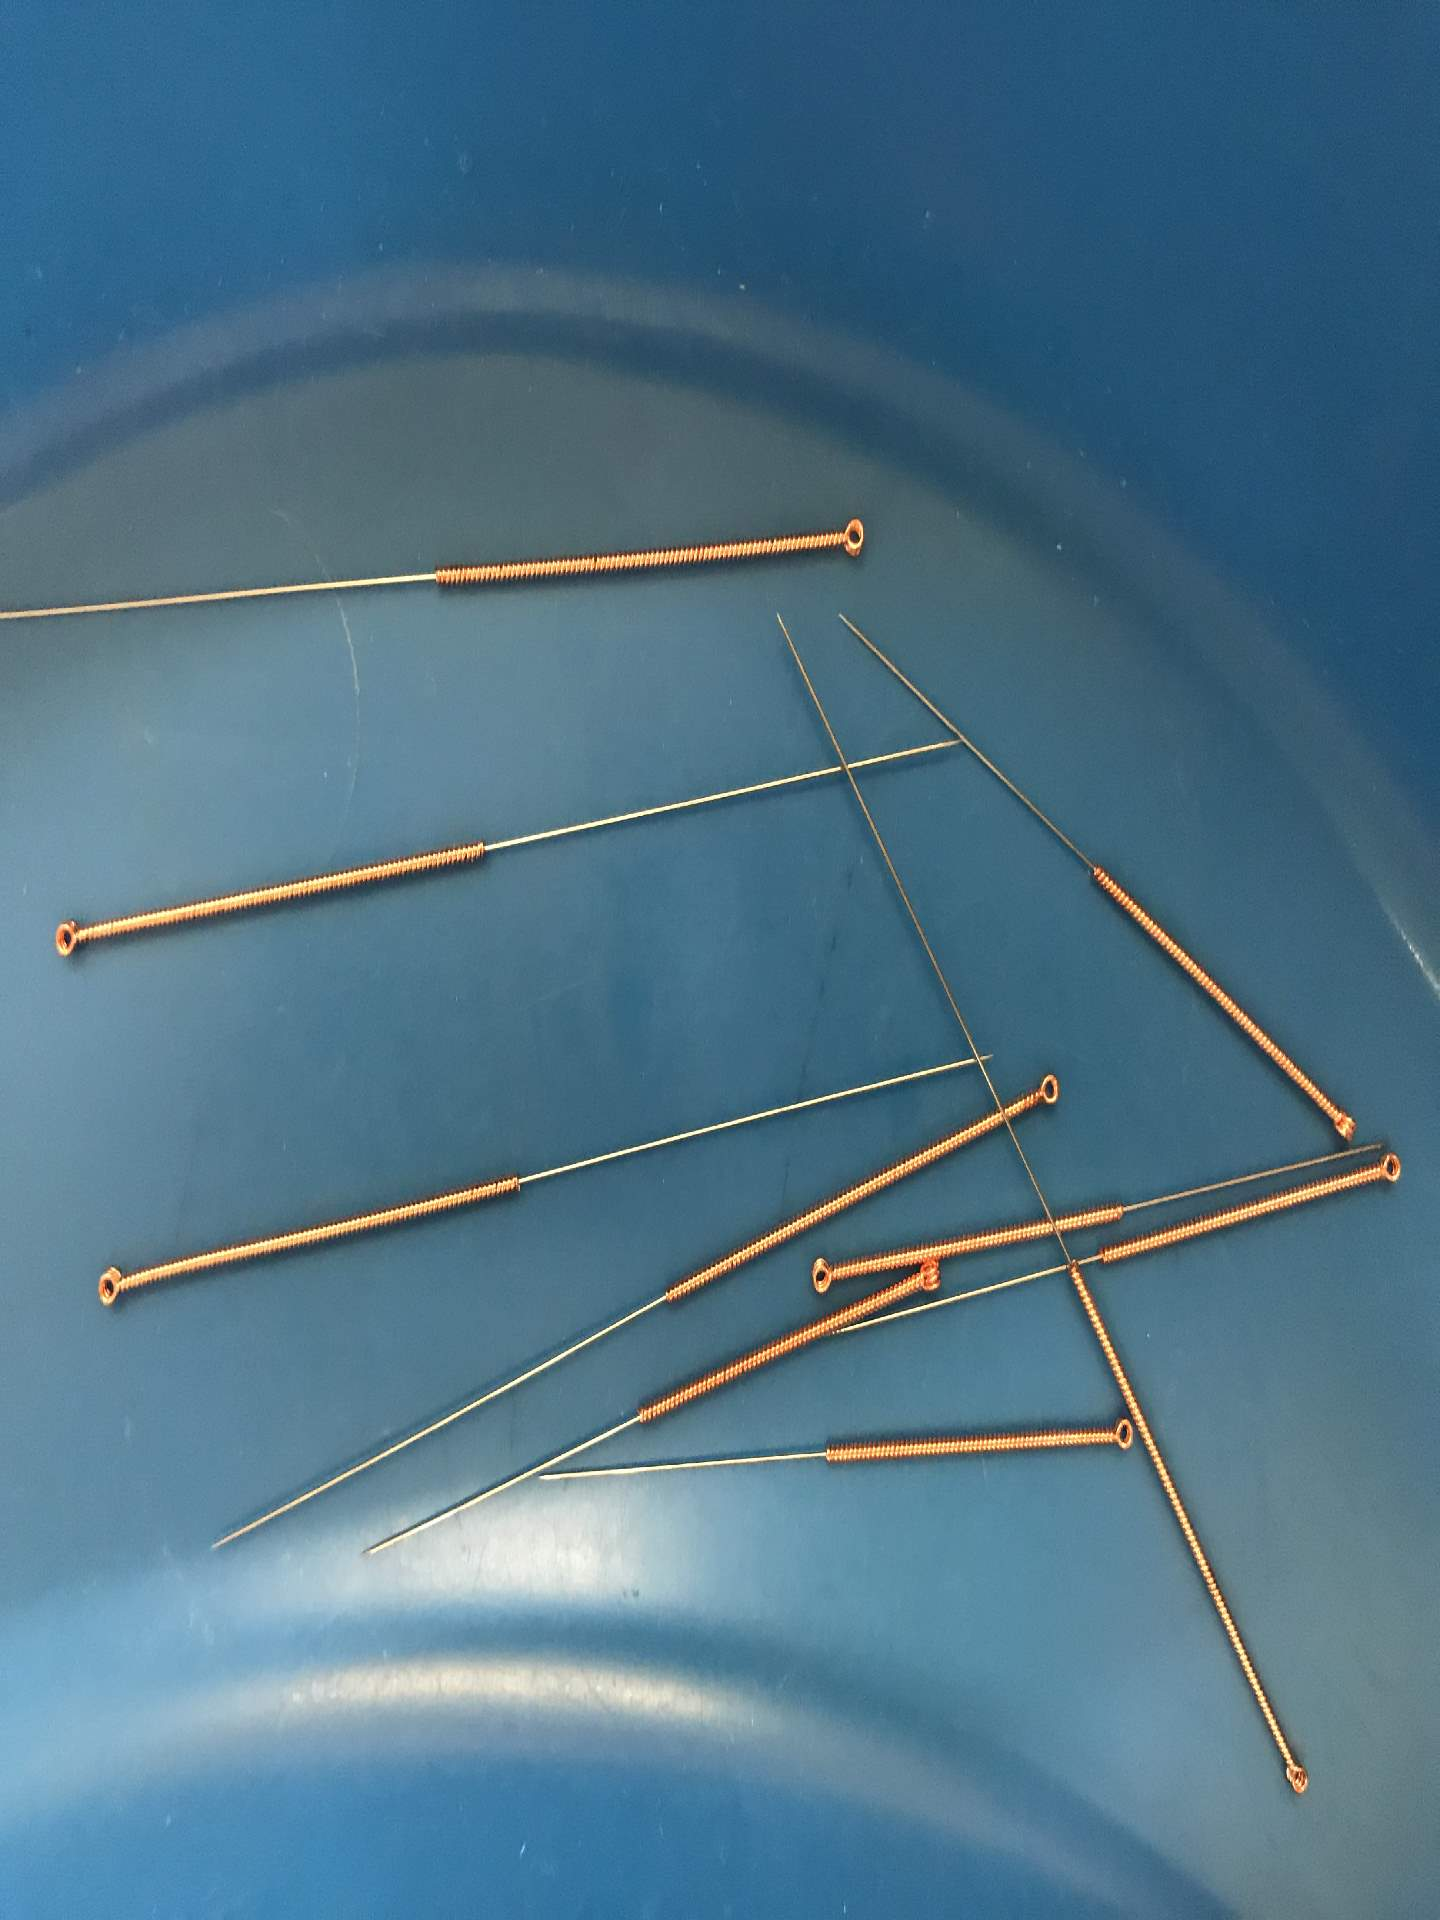needle: (80, 1255, 142, 1318), (39, 909, 98, 971), (1269, 1745, 1317, 1807), (824, 509, 879, 562), (1023, 1063, 1069, 1120), (797, 1250, 849, 1302), (1317, 1096, 1366, 1150), (1089, 1411, 1136, 1463), (1366, 1144, 1410, 1194), (911, 1256, 951, 1299)
